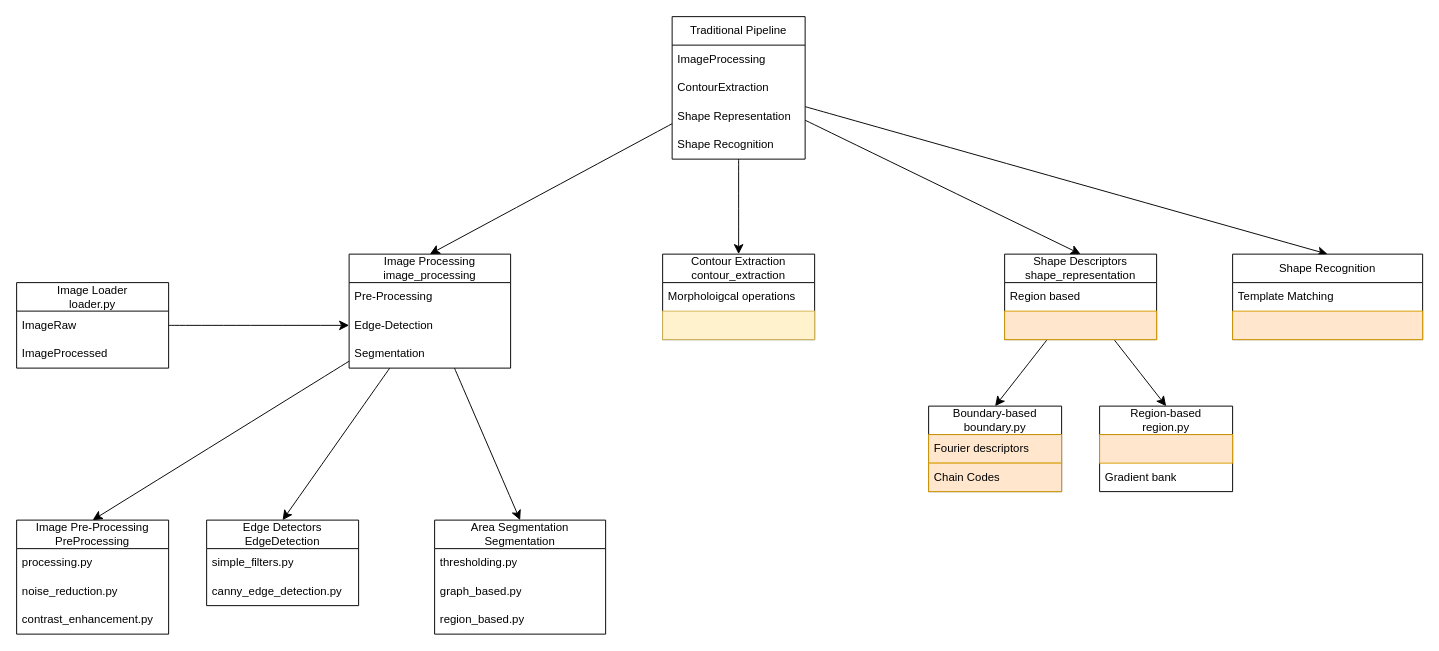
This 1439x651 diagram has some shape labels left out. Here are the shapes that lost their labels. From the top down, the centre of each, then its label:
point 738,325: Suzuki-Abe contour tracing
point 1080,325: Boundary based
point 1327,325: Classical Machine Learning
point 1166,448: Moments
